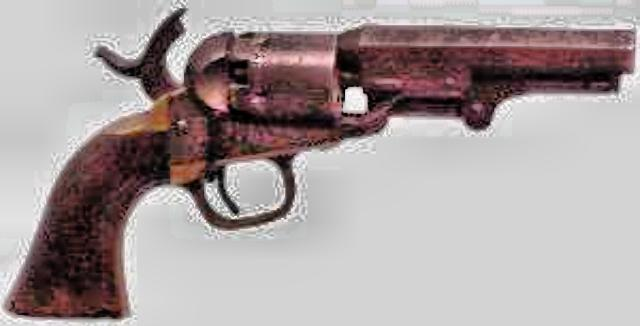pistol: (1, 8, 634, 314)
